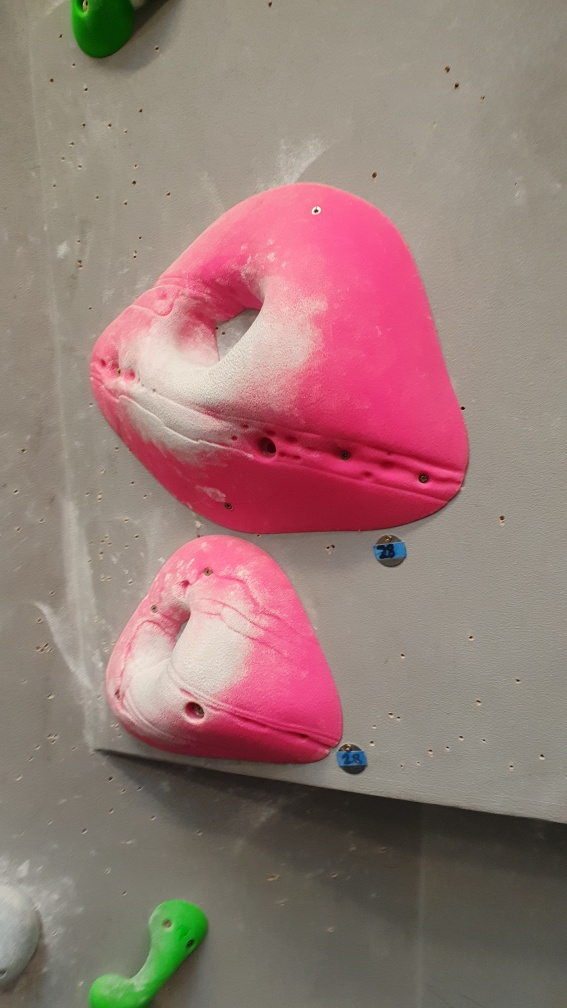Hand Start: (366, 531, 413, 572), (335, 743, 372, 786)
Pocket: (86, 173, 471, 534), (102, 532, 347, 771)
